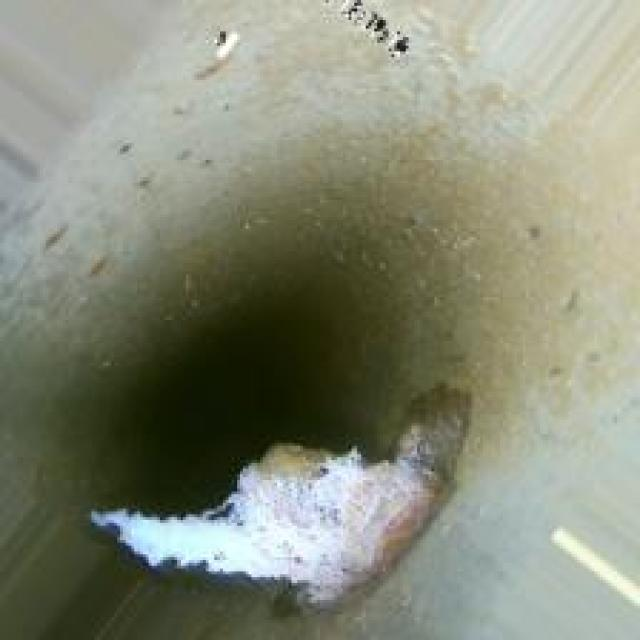ferrule: (109, 400, 468, 597)
